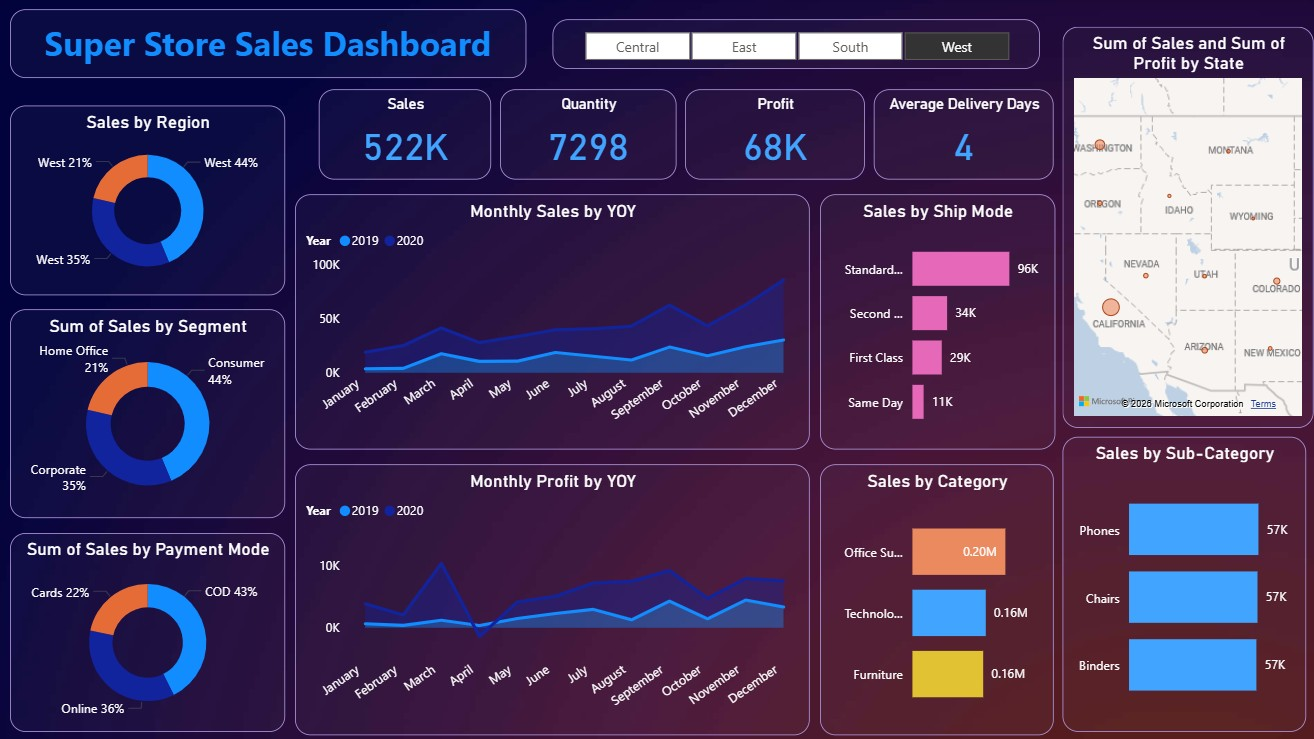

What the dashboard file says about the page in this screenshot:
{"tool":"powerbi","page":{"name":"Page 1","canvas":[1280,720],"ordinal":0},"visuals":[{"type":"clusteredBarChart","title":"Sales by Category","fields":{"Category":["SuperStore_Sales_Dataset (2).Category"],"Y":["Sum(SuperStore_Sales_Dataset (2).Sales)"]},"box":[796.3,450,225.6,261.8],"z":0},{"type":"clusteredBarChart","title":"Sales by Ship Mode","fields":{"Category":["SuperStore_Sales_Dataset (2).Ship Mode"],"Y":["Sum(SuperStore_Sales_Dataset (2).Sales)"]},"box":[796.3,189.4,226.8,246.1],"z":1000},{"type":"clusteredBarChart","title":"Sales by Sub-Category","fields":{"Y":["Sum(SuperStore_Sales_Dataset (2).Sales)"],"Category":["SuperStore_Sales_Dataset (2).Sub-Category"]},"box":[1030.3,423.5,235.3,284.7],"z":2000},{"type":"stackedAreaChart","title":"Monthly Sales by YOY","fields":{"Y":["Sum(SuperStore_Sales_Dataset (2).Sales)"],"Category":["SuperStore_Sales_Dataset (2).Order Date.Variation.Date Hierarchy.Month","SuperStore_Sales_Dataset (2).Order Date.Variation.Date Hierarchy.Day"],"Series":["SuperStore_Sales_Dataset (2).Order Date.Variation.Date Hierarchy.Year"]},"box":[289.5,189.4,497.1,246.1],"z":3000},{"type":"stackedAreaChart","title":"Monthly Profit by YOY","fields":{"Category":["SuperStore_Sales_Dataset (2).Order Date.Variation.Date Hierarchy.Month","SuperStore_Sales_Dataset (2).Order Date.Variation.Date Hierarchy.Day"],"Series":["SuperStore_Sales_Dataset (2).Order Date.Variation.Date Hierarchy.Year"],"Y":["Sum(SuperStore_Sales_Dataset (2).Profit)"]},"box":[289.5,450,497.1,261.8],"z":4000},{"type":"map","fields":{"Category":["SuperStore_Sales_Dataset (2).State"],"Size":["Sum(SuperStore_Sales_Dataset (2).Sales)"]},"box":[1030.3,27.7,242.5,387.3],"z":5000},{"type":"donutChart","fields":{"Category":["SuperStore_Sales_Dataset (2).Segment"],"Y":["Sum(SuperStore_Sales_Dataset (2).Sales)"]},"box":[14.5,300.4,265.4,201.5],"z":6000},{"type":"donutChart","fields":{"Category":["SuperStore_Sales_Dataset (2).Payment Mode"],"Y":["Sum(SuperStore_Sales_Dataset (2).Sales)"]},"box":[14.5,516.4,265.4,191.8],"z":7000},{"type":"slicer","fields":{"Values":["SuperStore_Sales_Dataset (2).Region"]},"box":[538.1,20.5,470.5,48.3],"z":8000},{"type":"textbox","box":[14.5,10.9,498.3,66.4],"z":9000},{"type":"card","title":"Sales","fields":{"Values":["Sum(SuperStore_Sales_Dataset (2).Sales)"]},"box":[312.5,88.1,166.5,86.9],"z":10000},{"type":"card","title":"Quantity","fields":{"Values":["Sum(SuperStore_Sales_Dataset (2).Quantity)"]},"box":[487.4,88.1,170.1,86.9],"z":11000},{"type":"card","title":"Profit","fields":{"Values":["Sum(SuperStore_Sales_Dataset (2).Profit)"]},"box":[666,88.1,173.7,86.9],"z":12000},{"type":"card","title":"Average Delivery Days","fields":{"Values":["Avg(SuperStore_Sales_Dataset (2).AvgDelivery)"]},"box":[848.1,88.1,173.7,86.9],"z":13000},{"type":"donutChart","title":"Sales by Region","fields":{"Category":["SuperStore_Sales_Dataset (2).Segment"],"Y":["Sum(SuperStore_Sales_Dataset (2).Sales)"],"Series":["SuperStore_Sales_Dataset (2).Region"]},"box":[14.5,103.8,265.4,183.4],"z":14000}]}

Visuals, with their boxes in screenshot pixels (x1, y1, x2, y2), scaled from the page's 1280x720 canvas onto the 1314x739 screenshot:
"Sales by Category" clusteredBarChart: detection(817, 462, 1049, 731)
"Sales by Ship Mode" clusteredBarChart: detection(817, 194, 1050, 447)
"Sales by Sub-Category" clusteredBarChart: detection(1058, 435, 1299, 727)
"Monthly Sales by YOY" stackedAreaChart: detection(297, 194, 807, 447)
"Monthly Profit by YOY" stackedAreaChart: detection(297, 462, 807, 731)
map - SuperStore_Sales_Dataset (2).State x Sum(SuperStore_Sales_Dataset (2).Sales): detection(1058, 28, 1307, 426)
donutChart - SuperStore_Sales_Dataset (2).Segment x Sum(SuperStore_Sales_Dataset (2).Sales): detection(15, 308, 287, 515)
donutChart - SuperStore_Sales_Dataset (2).Payment Mode x Sum(SuperStore_Sales_Dataset (2).Sales): detection(15, 530, 287, 727)
slicer - SuperStore_Sales_Dataset (2).Region: detection(552, 21, 1035, 71)
textbox: detection(15, 11, 526, 79)
"Sales" card: detection(321, 90, 492, 180)
"Quantity" card: detection(500, 90, 675, 180)
"Profit" card: detection(684, 90, 862, 180)
"Average Delivery Days" card: detection(871, 90, 1049, 180)
"Sales by Region" donutChart: detection(15, 107, 287, 295)
